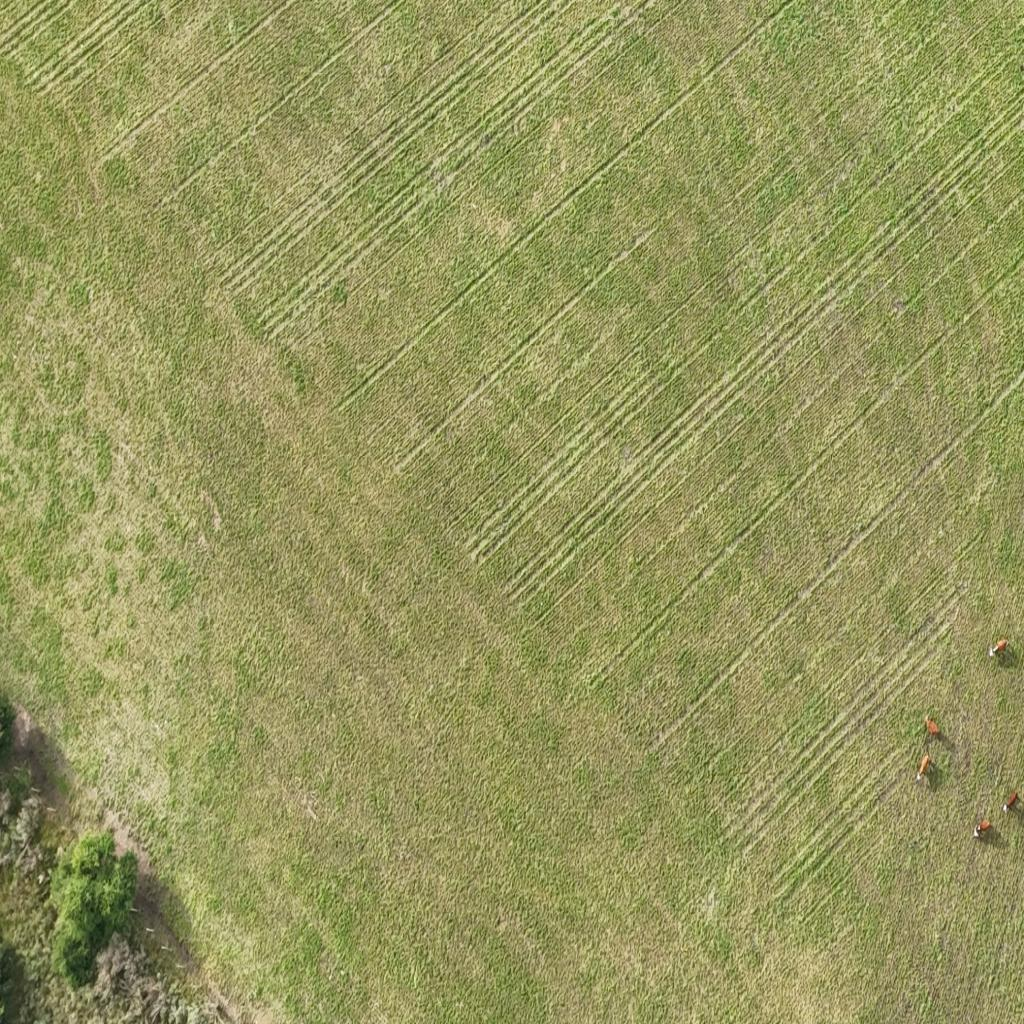cow: (912, 751, 928, 783), (988, 639, 1009, 661), (973, 817, 991, 839), (924, 716, 939, 737), (1012, 788, 1024, 812)
